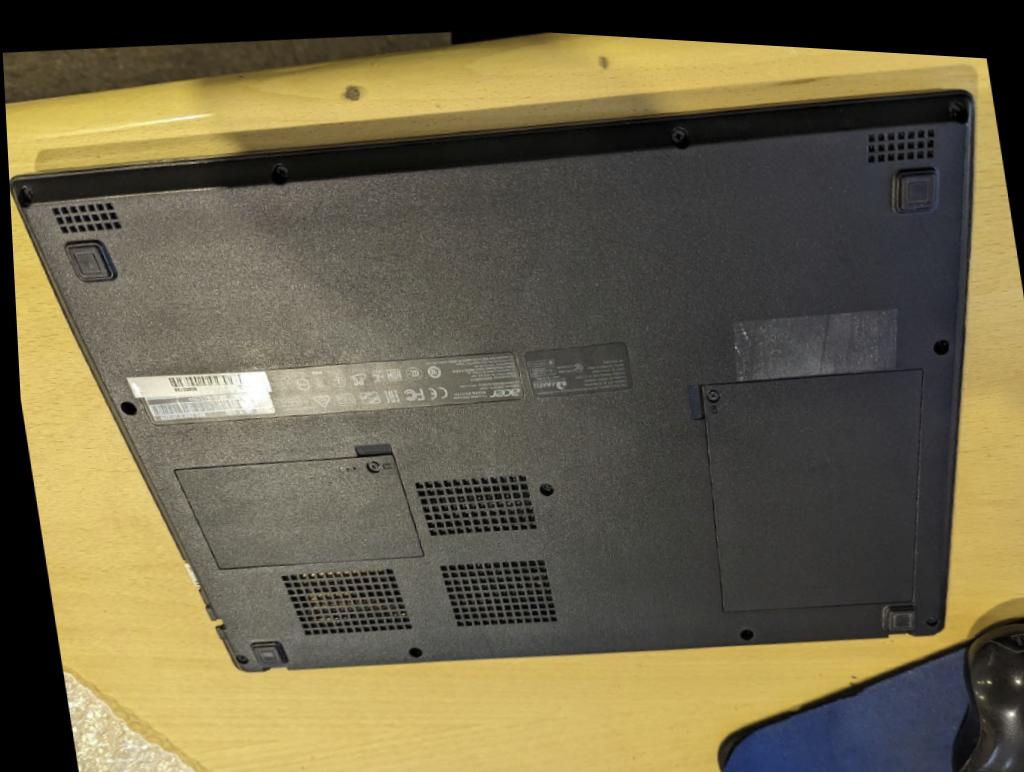scratch: (469, 618, 486, 652)
stain: (728, 298, 893, 371)
